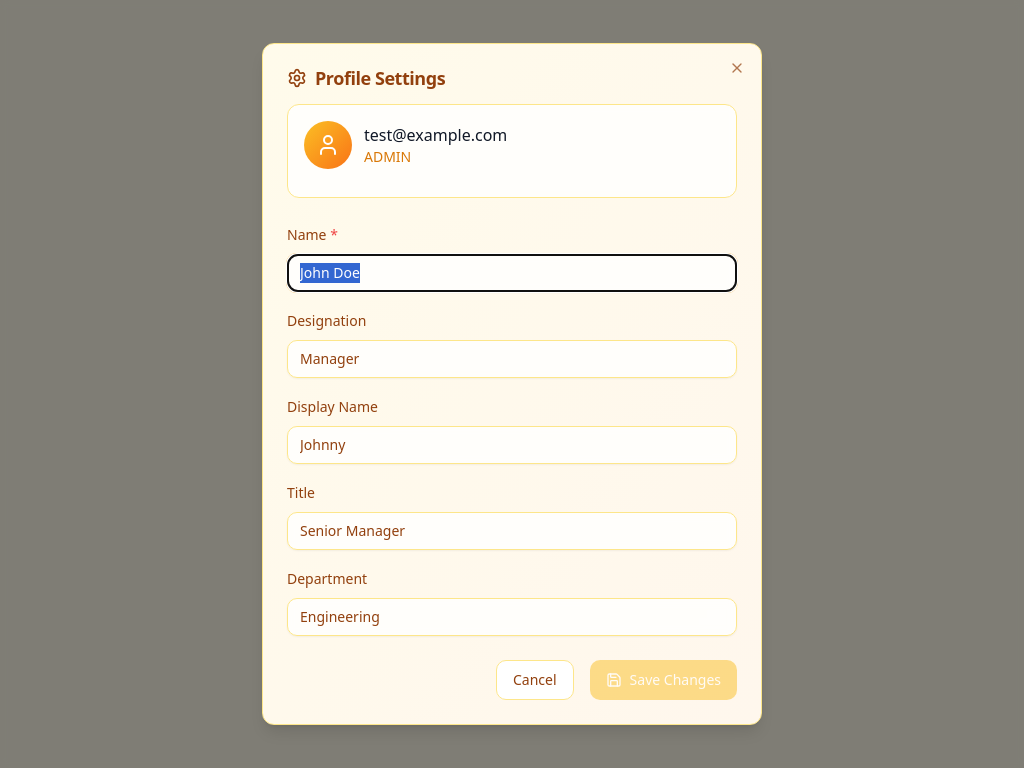
Test: ProfileSettings › handles service errors gracefully
# Change form values
Clear the field labelled "Name *" at [512, 273], box 287,254 -> 737,292
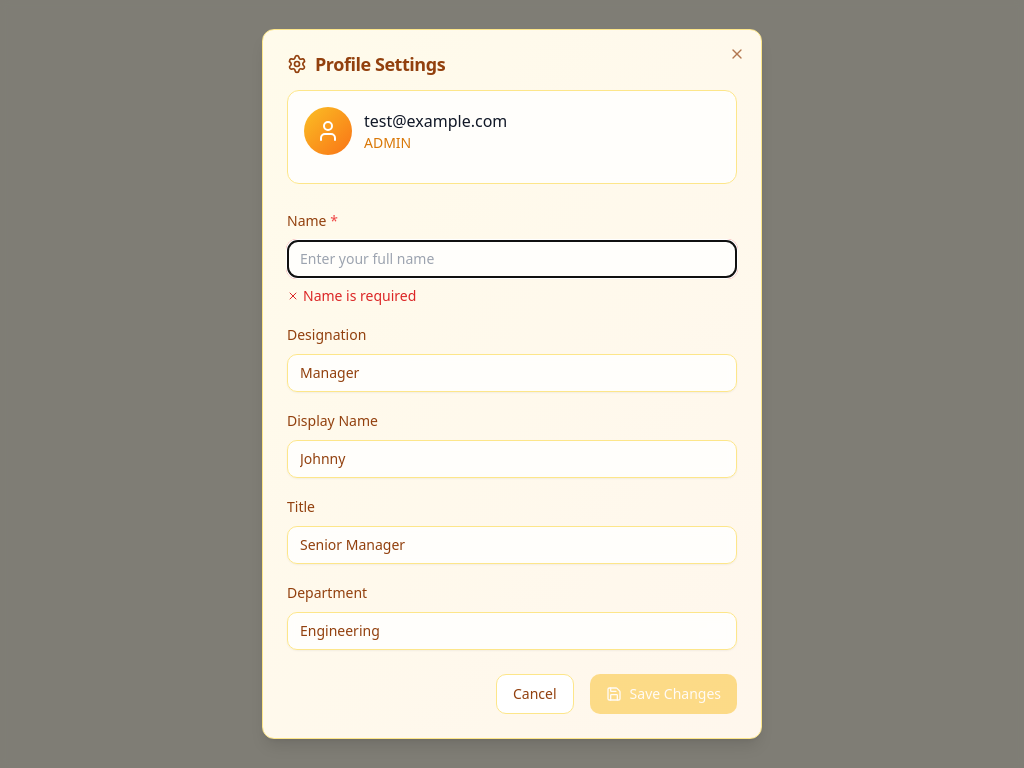
Type "New Name" into the field labelled "Name *".
click(512, 259); type("New Name")  # box 287,240 -> 737,278
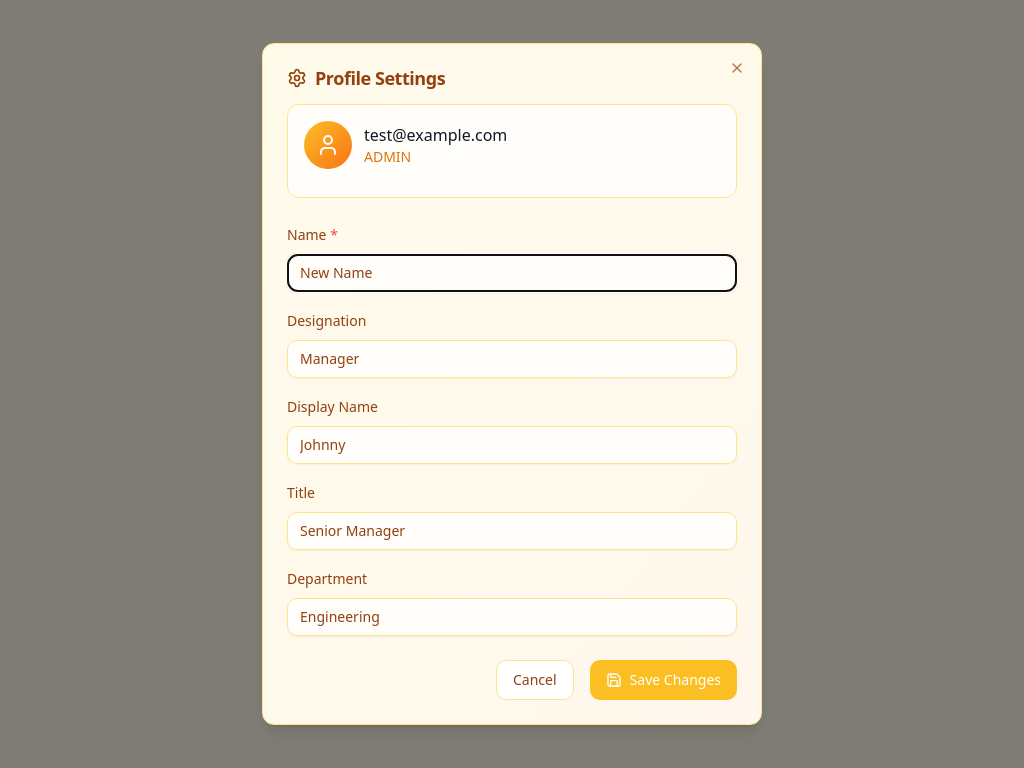
# Submit form
Click the button "Save Changes".
click(663, 680)  # box 590,660 -> 737,700
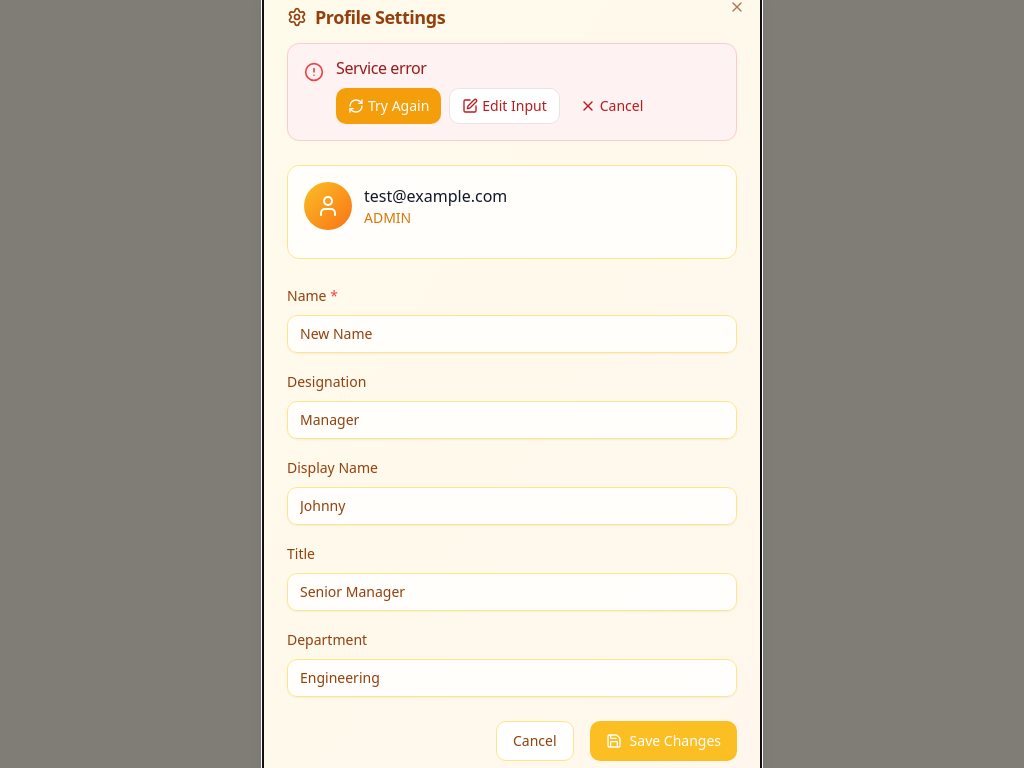
Check: the heading "Service error" is shown, box 336,57 -> 426,79
